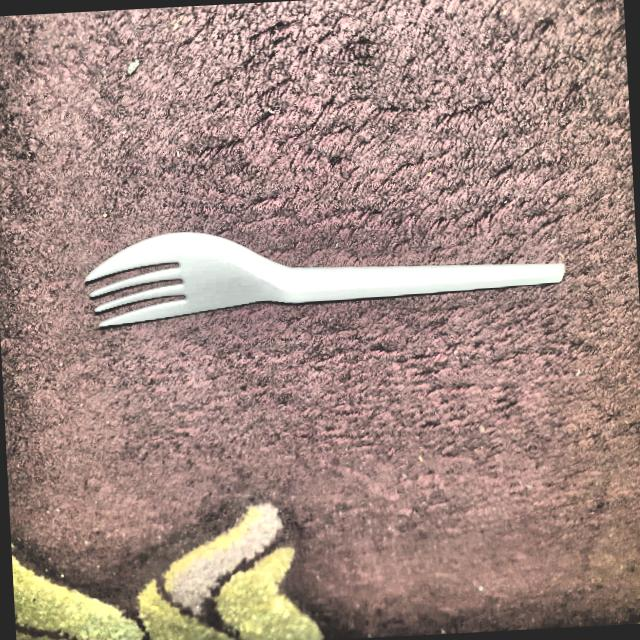plastic utensil: (76, 198, 573, 347)
